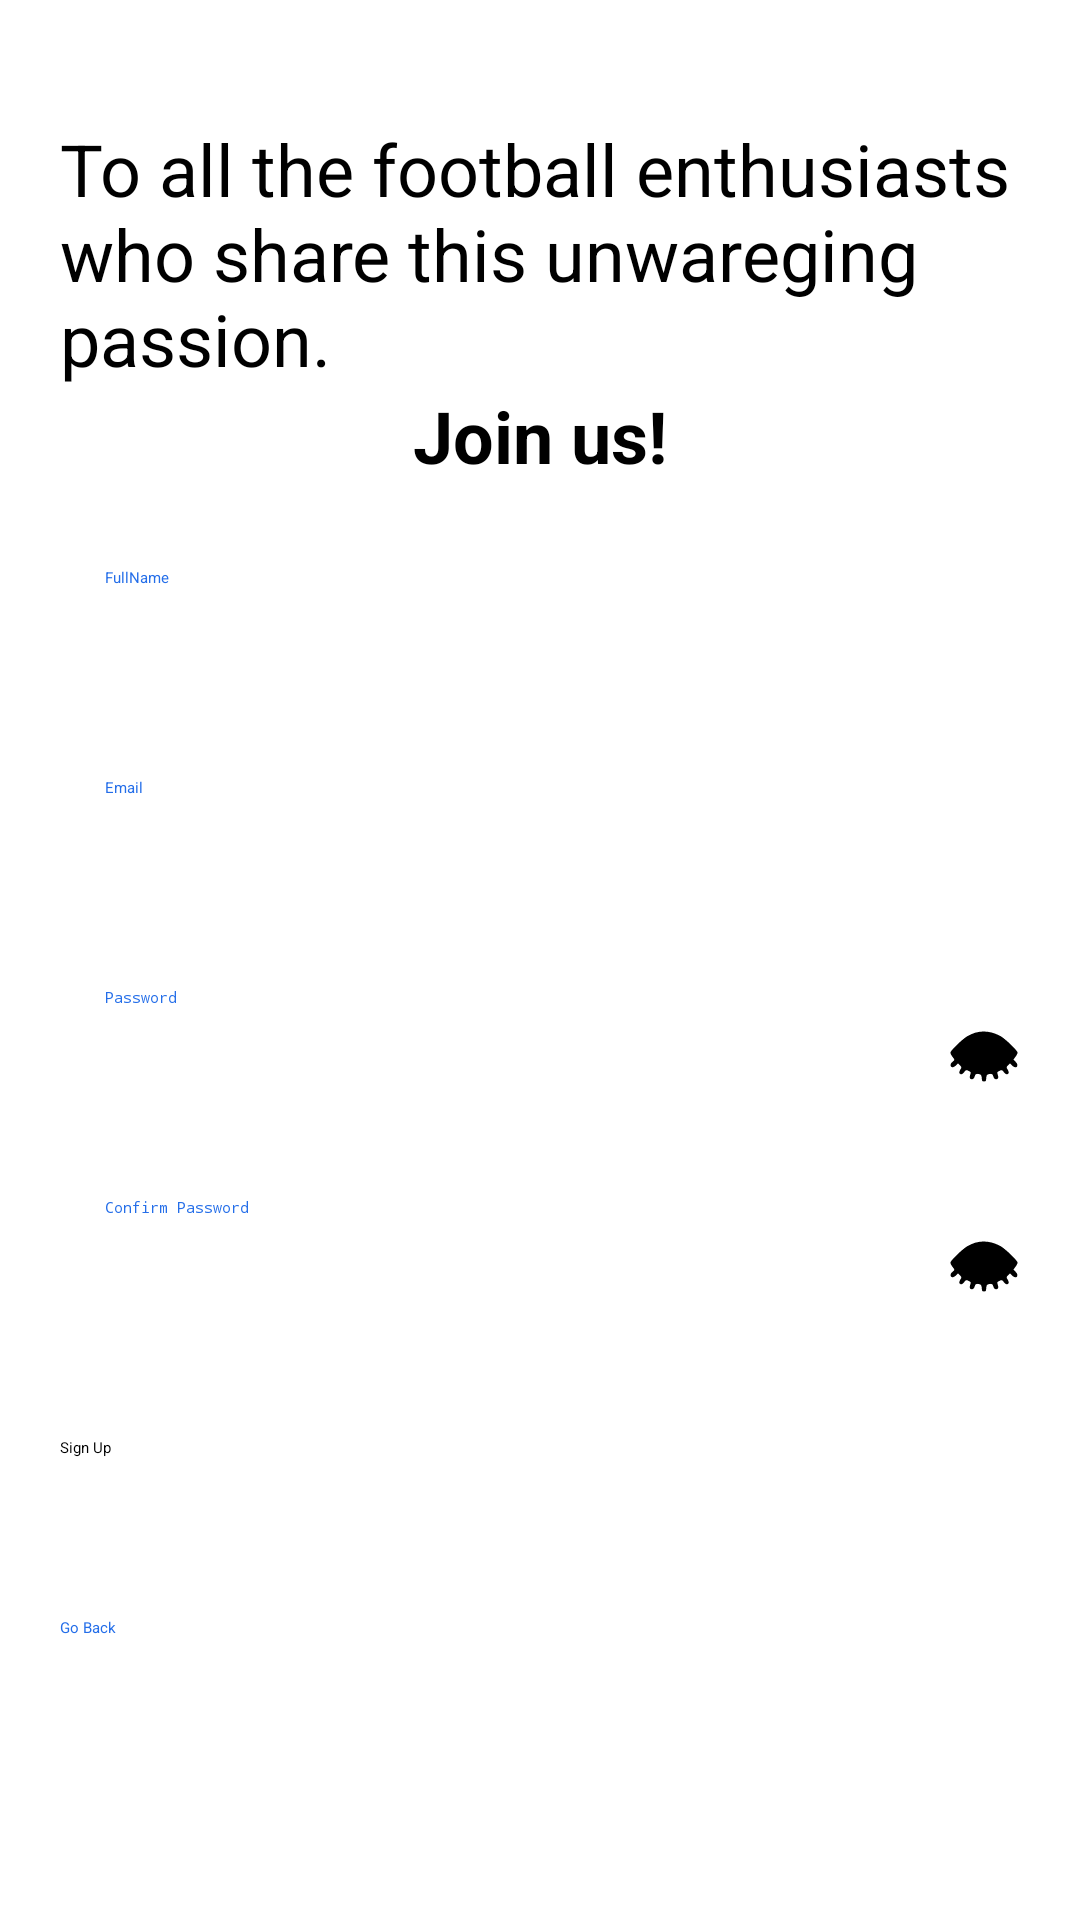

Where icons sit on this 1080*1920 app screen, as (x1, y1, x2, y2):
eye closed: (950, 1031, 1018, 1082), (950, 1241, 1018, 1292)
